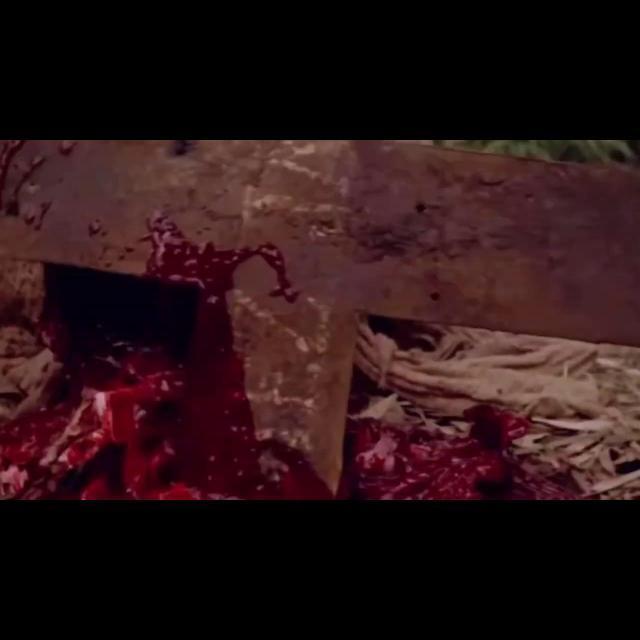blood: (0, 211, 332, 500), (342, 318, 578, 499)
